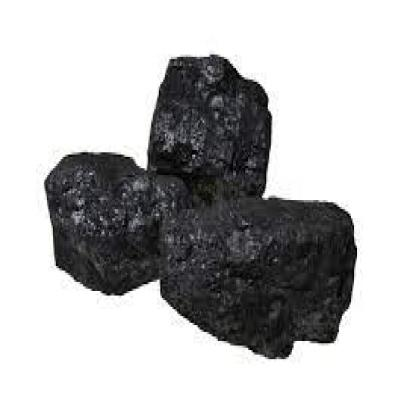Sedimentary_coal: (159, 186, 377, 366), (146, 50, 278, 234), (29, 136, 168, 298)
